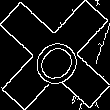O_NE: (22, 22, 88, 88)
